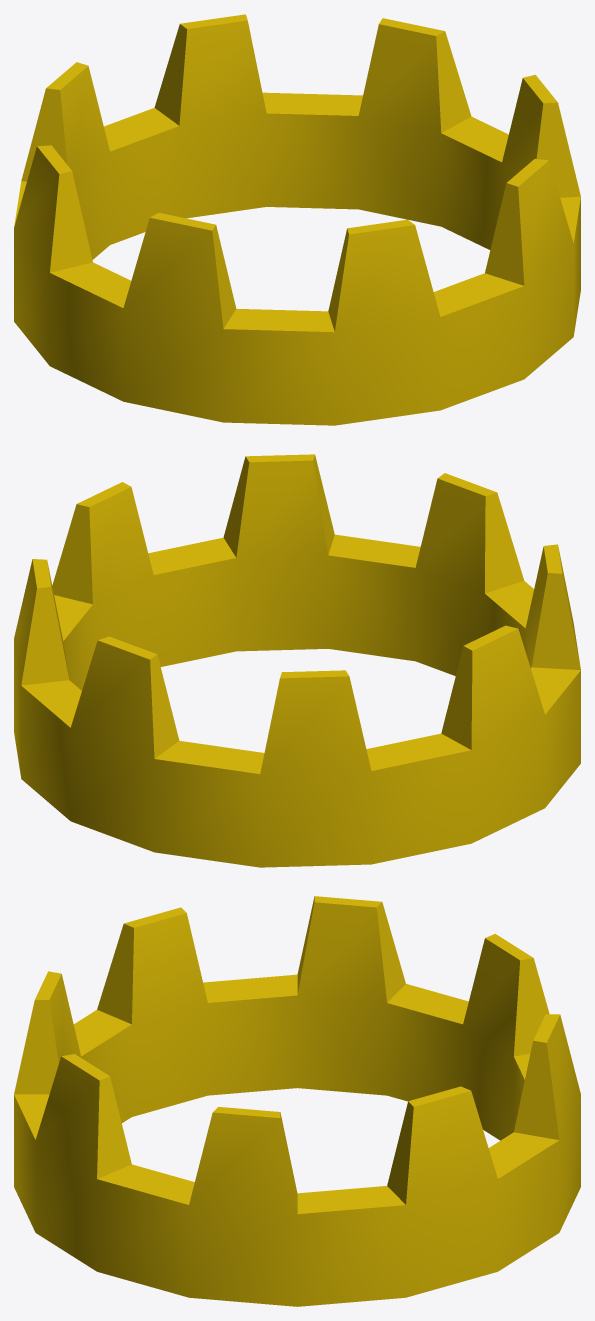
Rendered from Crown.fbx.
3 renders of one model, top to bottom at view 1: azimuth 30°, elevation 25°; view 2: azimuth 150°, elevation 25°; view 3: azimuth 270°, elevation 25°, orthographic.
Visible parts, largest first — view 1: pCylinder1; view 2: pCylinder1; view 3: pCylinder1.
Part boxes in pixels (bbox=[...]): pCylinder1: bbox=[14, 14, 580, 425]; pCylinder1: bbox=[14, 454, 580, 867]; pCylinder1: bbox=[14, 896, 580, 1306].
Bounding box in the file's own units: 100 × 100 × 35.01.
